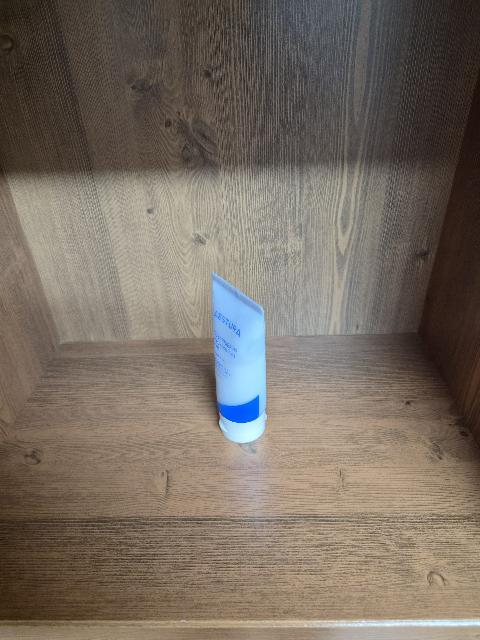handcream: (211, 272, 267, 443)
